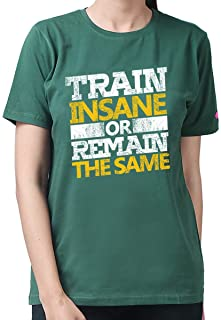tshirt: (1, 4, 221, 313)
